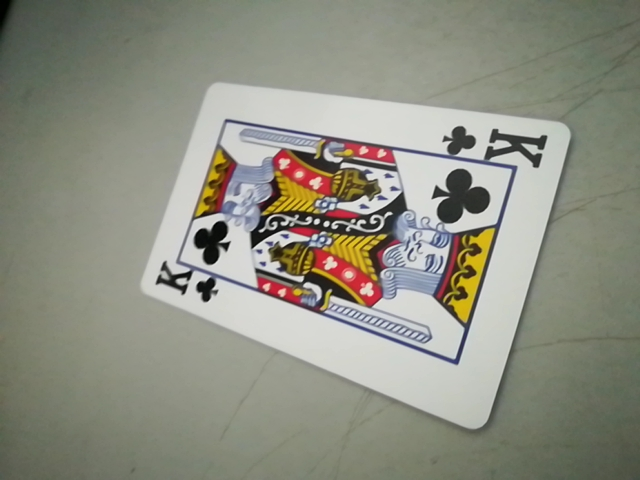mh k: (439, 121, 551, 166), (151, 265, 222, 307)
